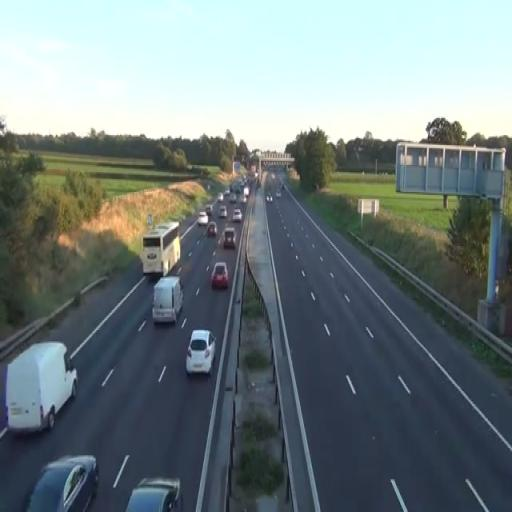Bus: (140, 220, 182, 278)
Car: (26, 454, 100, 512), (125, 476, 183, 512), (186, 329, 216, 376), (211, 261, 229, 289), (224, 226, 236, 250), (207, 220, 217, 238), (198, 211, 208, 227), (232, 208, 242, 222)
Truck: (5, 341, 78, 436), (140, 221, 182, 278), (151, 275, 183, 325)
